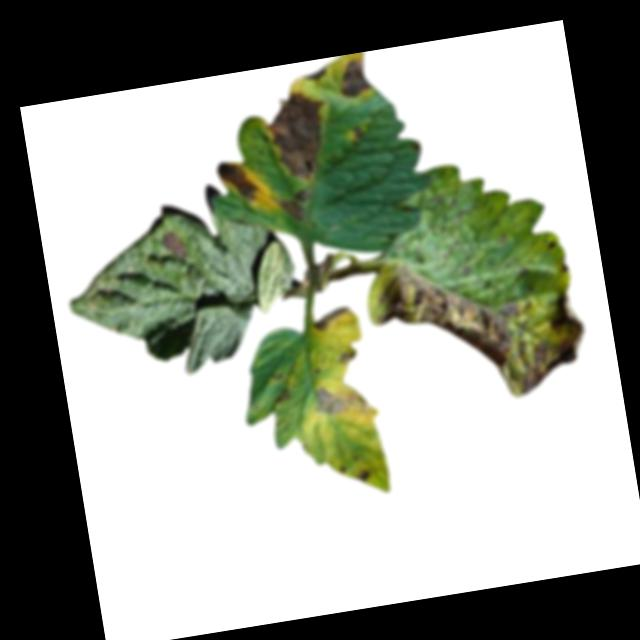Early_blight: (359, 232, 595, 420), (259, 84, 338, 188), (309, 376, 371, 420), (215, 156, 264, 206), (335, 55, 375, 100), (278, 187, 316, 223), (310, 303, 351, 332), (159, 225, 189, 260), (300, 63, 331, 82), (270, 385, 291, 407), (350, 122, 369, 144), (355, 464, 372, 484), (337, 347, 356, 364)
